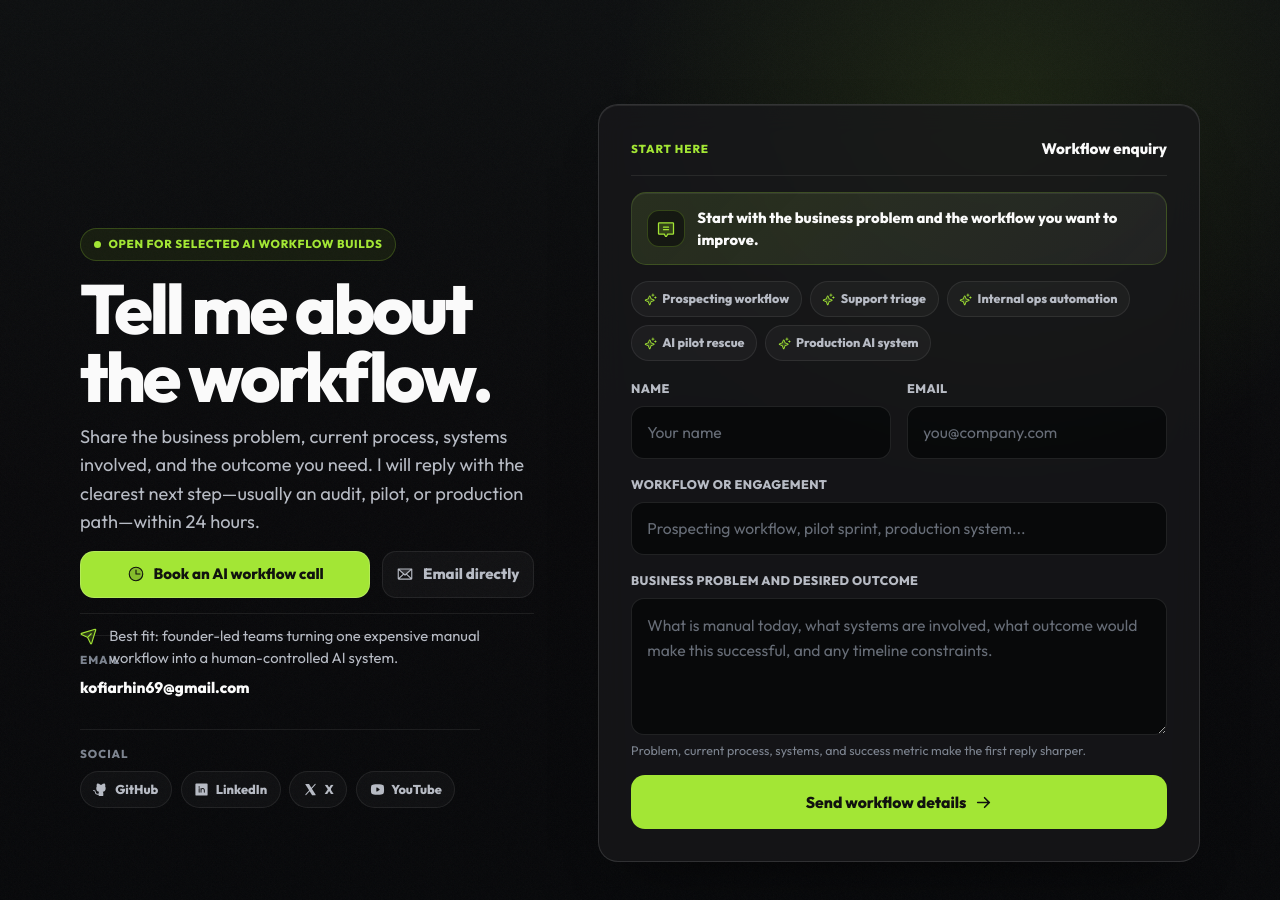
Test: Contact page empty state › hides the empty state after a prompt chip fills the form
Click the button "Prospecting workflow".
click(716, 299)  # box [631,281,802,317]
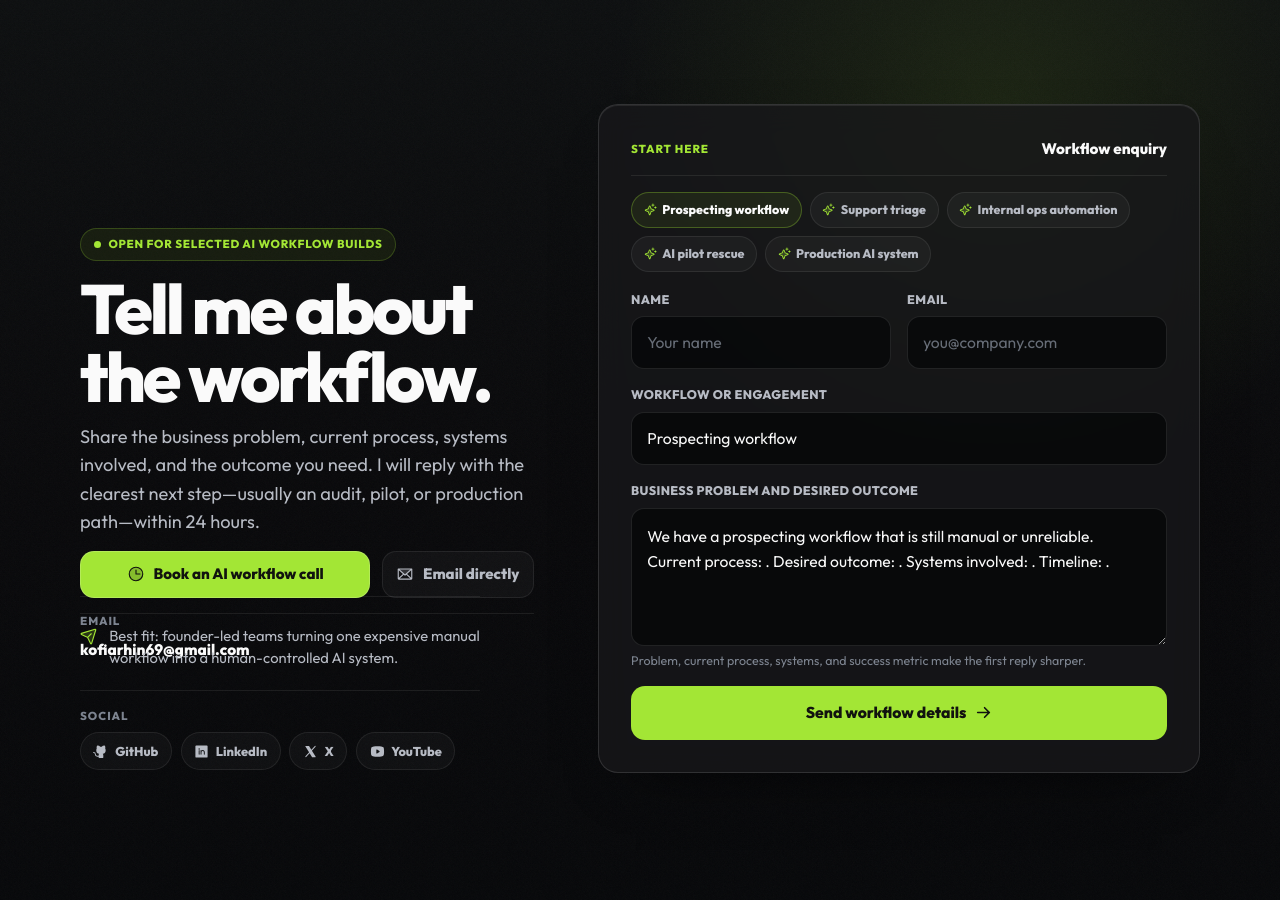
Check: the text "Start with the business problem and the workflow you want to improve." is gone
